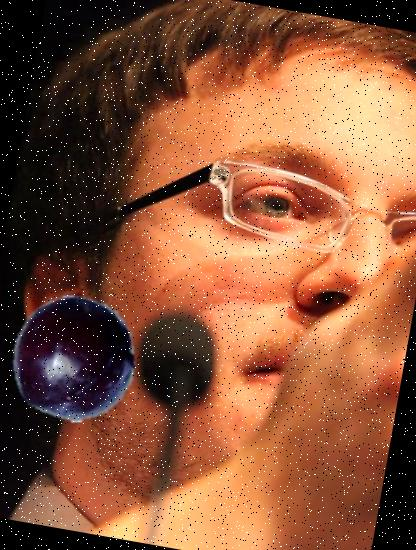Plum: (0, 285, 147, 433)
